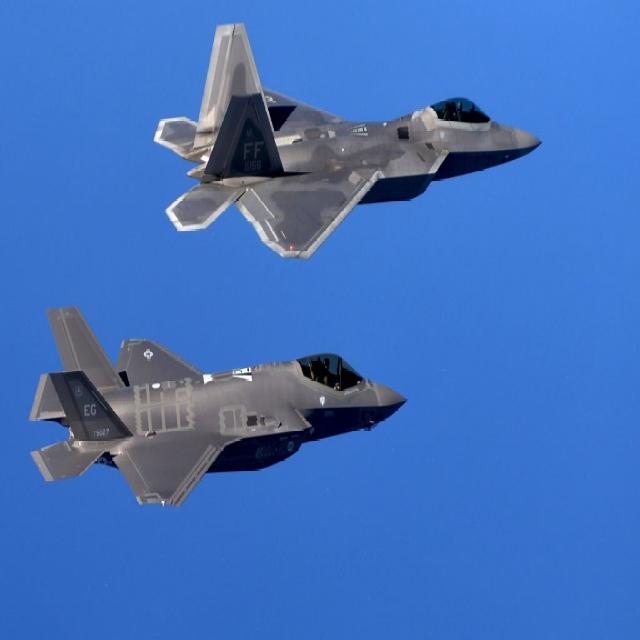F22: (152, 24, 544, 256), (34, 301, 408, 505)
